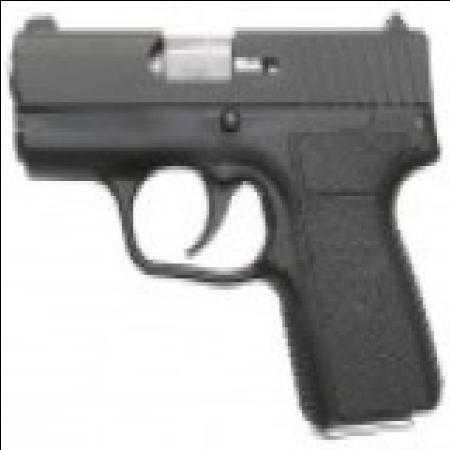Pistol: (9, 12, 448, 428)
